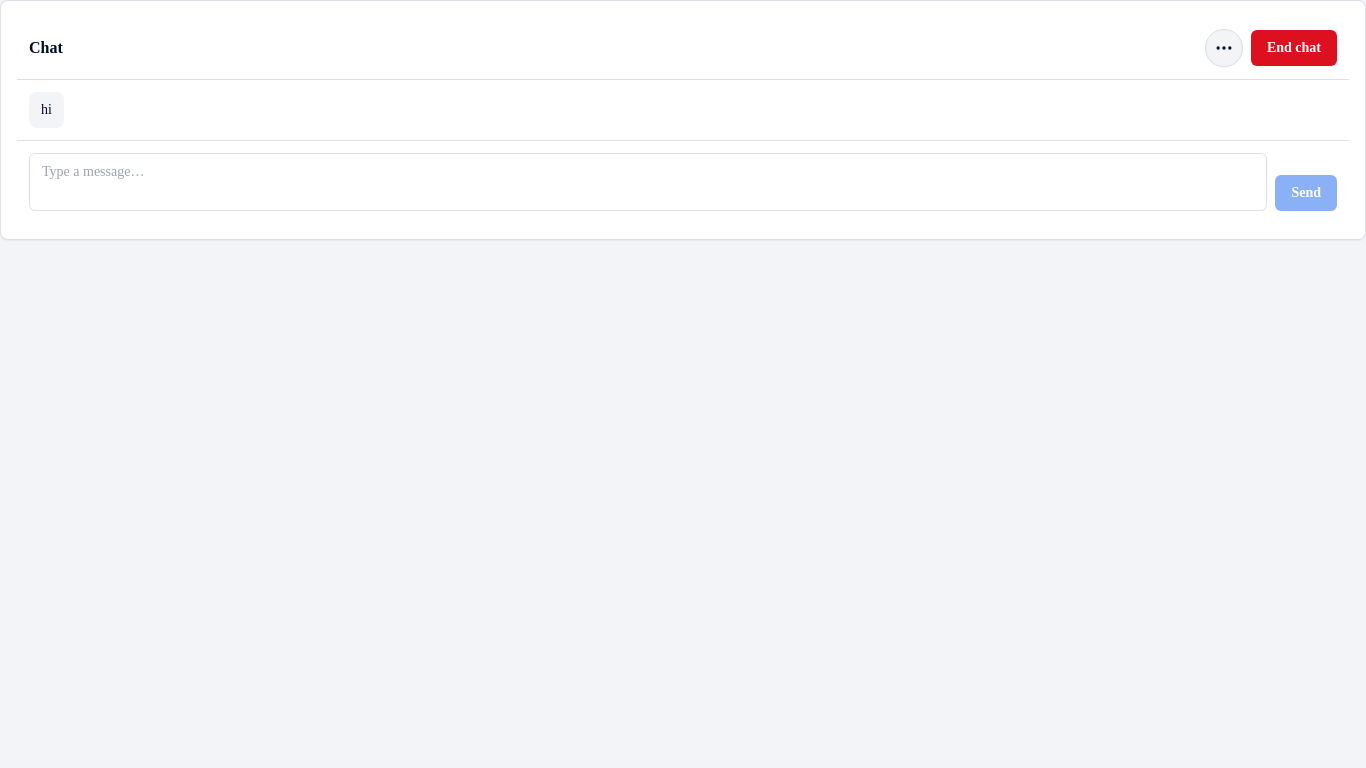
it: ConversationPanel › renders messages, the End chat button, and a More menu of secondary actions
Expected: the text "hi" is shown, [29,92,64,128]
Expected: the button "End chat" is shown, [1251,30,1337,66]
Click the button named "More" at (1224, 48), box [1205,29,1243,67]
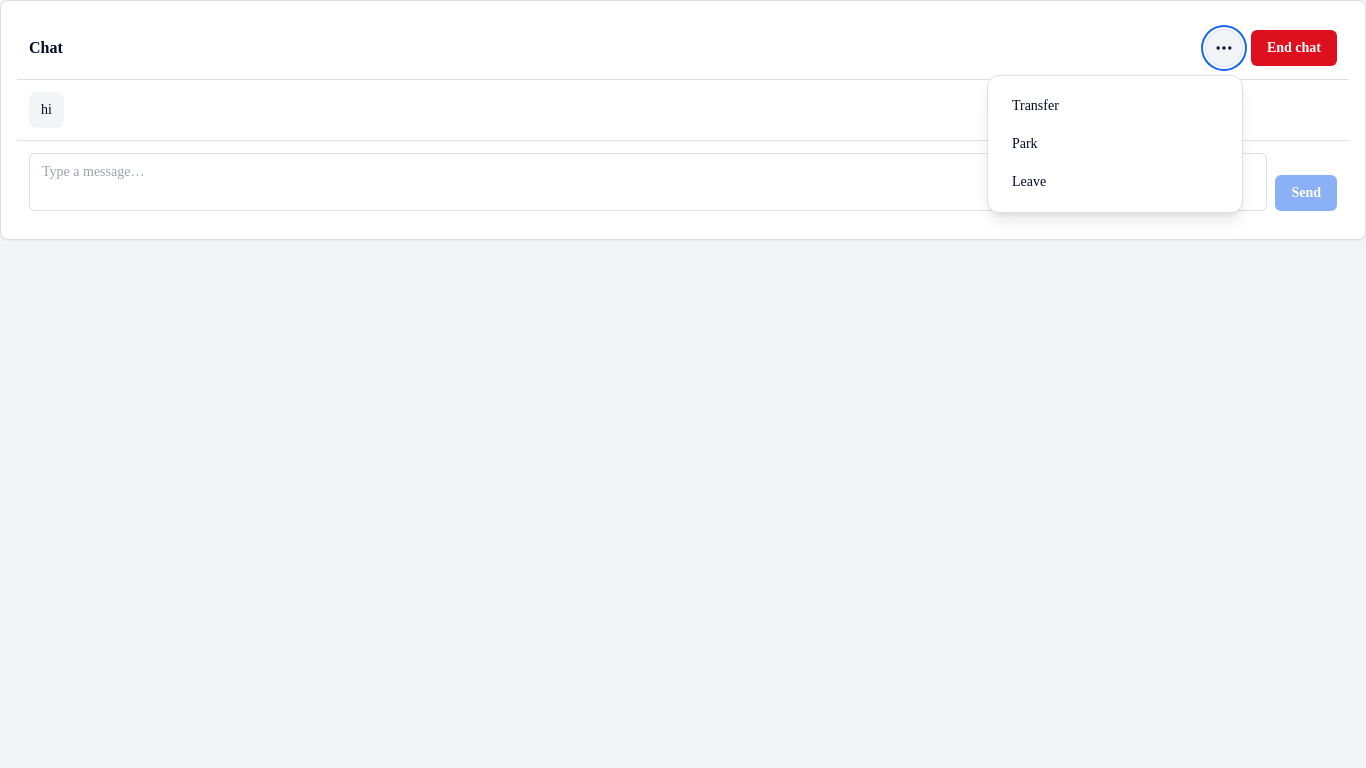
Now the button "Park" is shown, box [1000,126,1230,162]
Now the button "Transfer" is shown, box [1000,88,1230,124]
Now the button "Leave" is shown, box [1000,164,1230,200]
